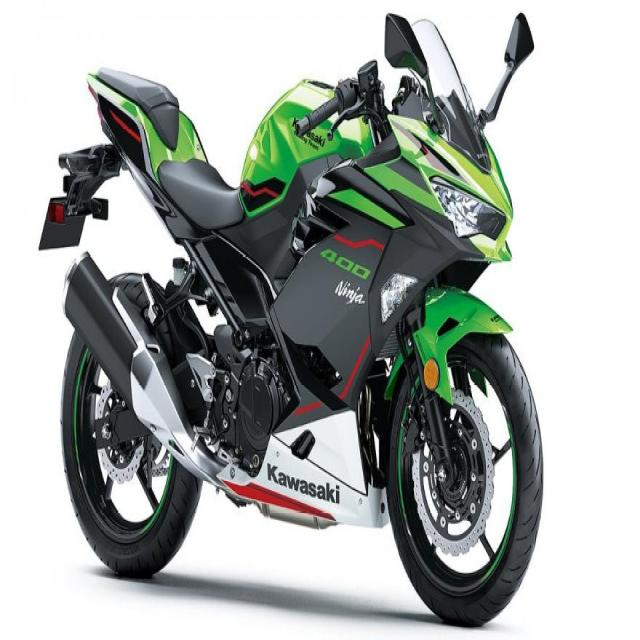Bike: (44, 14, 547, 627)
